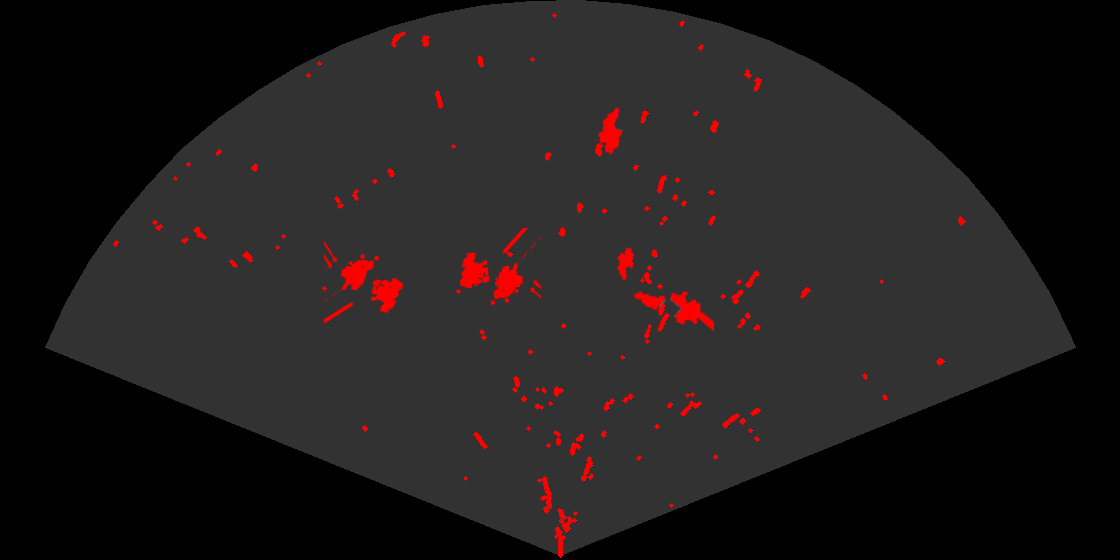AUV: (597, 106, 624, 156), (616, 246, 635, 282)
cage: (324, 240, 405, 325), (458, 228, 541, 307)
frogman: (632, 289, 714, 333)
